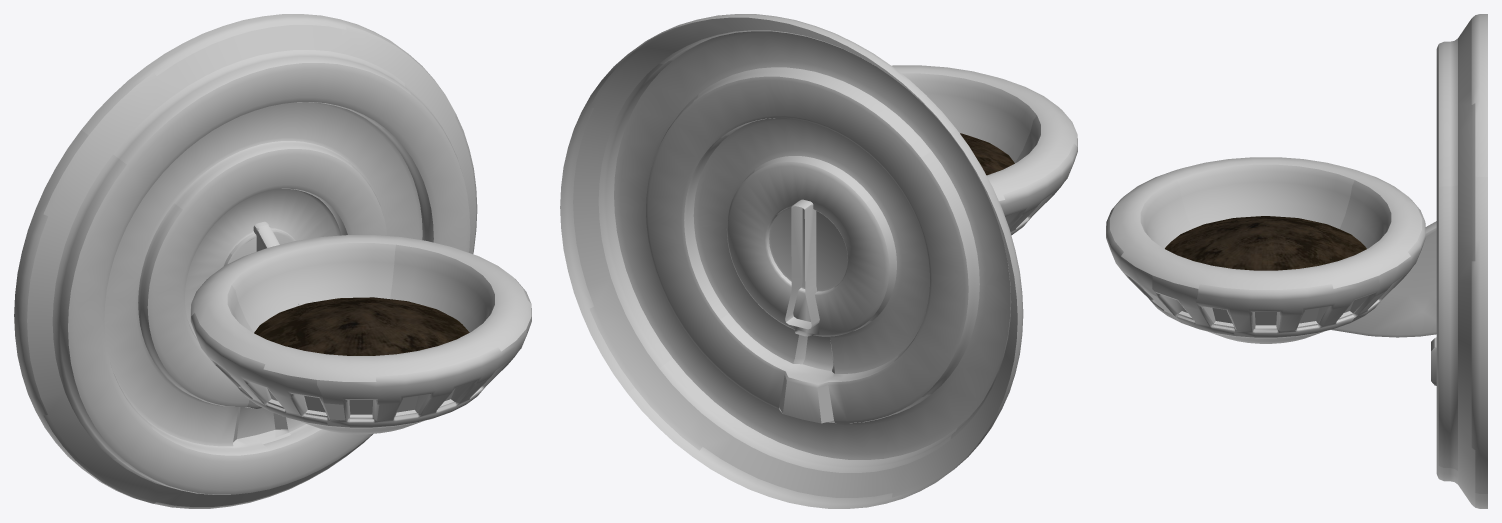
3 renders of one model, left to right at view 1: azimuth 30°, elevation 25°; view 2: azimuth 150°, elevation 25°; view 3: azimuth 270°, elevation 25°, orthographic. The views are drawn at different scales.
Parts seen in each view (by area): view 1: torchback_low, torchbowl_low, torchkindling_low.001; view 2: torchback_low, torchbowl_low, torchconn_low, torchkindling_low.001; view 3: torchbowl_low, torchback_low, torchkindling_low.001, torchconn_low.
Part boxes in pixels (x1,y1,x2,y2): torchback_low: [14, 14, 477, 508]; torchbowl_low: [190, 235, 531, 434]; torchkindling_low.001: [254, 297, 469, 355]; torchback_low: [560, 14, 1023, 508]; torchbowl_low: [892, 65, 1077, 235]; torchconn_low: [785, 199, 819, 329]; torchkindling_low.001: [960, 133, 1014, 175]; torchbowl_low: [1106, 157, 1425, 343]; torchback_low: [1431, 14, 1487, 508]; torchkindling_low.001: [1165, 216, 1366, 270]; torchconn_low: [1331, 221, 1436, 337].
Size of the model in its own units: 6754 by 6754 by 5206.
